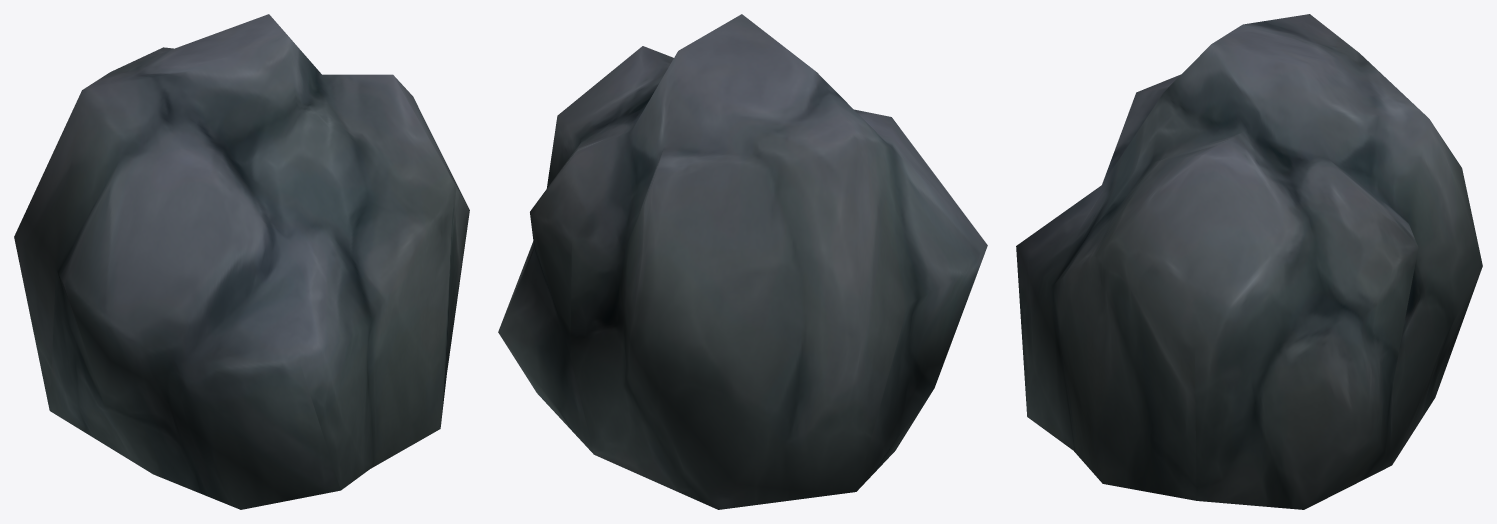
File: TwistedJungle_Stone03.FBX
3 views of the same model, side by side, from view 1: azimuth 30°, elevation 25°; view 2: azimuth 150°, elevation 25°; view 3: azimuth 270°, elevation 25° (orthographic). The views are drawn at different scales.
Parts seen in each view (by area): view 1: TwistedJungle_Stone03; view 2: TwistedJungle_Stone03; view 3: TwistedJungle_Stone03.
Boxes of the visible parts, bbox=[...] form: TwistedJungle_Stone03: bbox=[14, 14, 469, 509]; TwistedJungle_Stone03: bbox=[498, 14, 987, 509]; TwistedJungle_Stone03: bbox=[1016, 14, 1482, 509].
Bounding box in the file's own units: 93.02 × 92.12 × 93.67.
